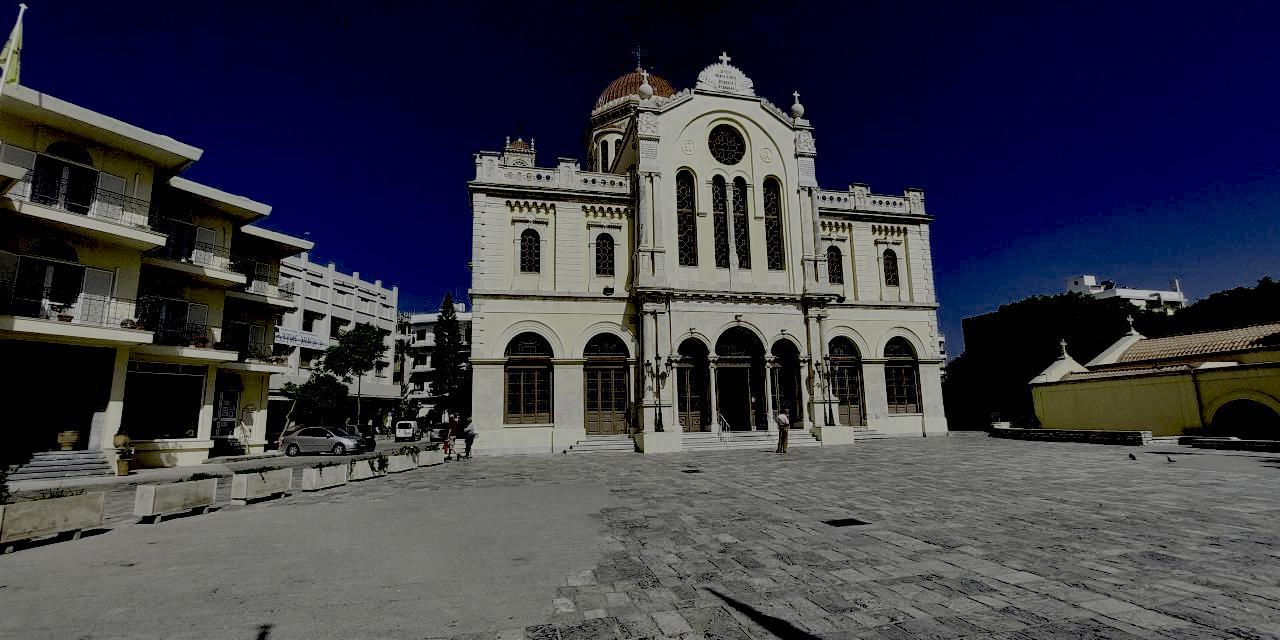Agios Minas: (459, 40, 954, 453)
